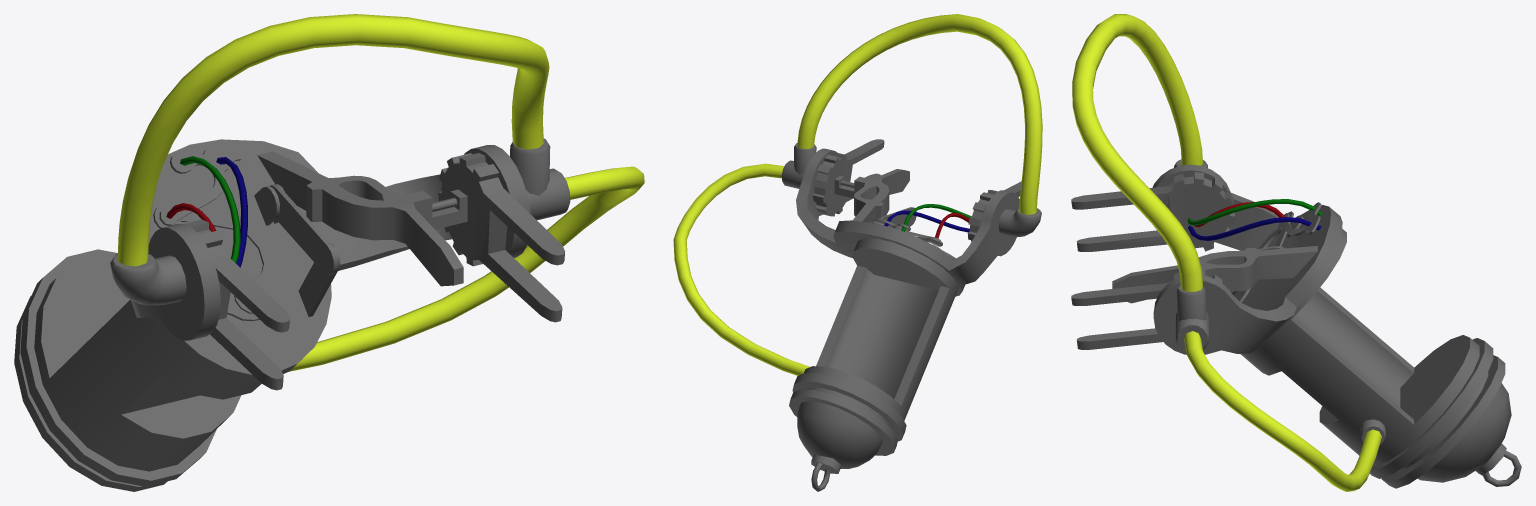
Rendered from Controller_Base.fbx.
3 views of the same model, side by side, from view 1: azimuth 30°, elevation 25°; view 2: azimuth 150°, elevation 25°; view 3: azimuth 270°, elevation 25° (orthographic). The views are drawn at different scales.
Parts seen in each view (by area): view 1: Controller_Front, Controller_Middle, Pipe_Top, Pipe_Side, Cables; view 2: Controller_Middle, Controller_Front, Pipe_Top, Controller_Back, Pipe_Side, Cables; view 3: Controller_Front, Controller_Middle, Pipe_Top, Pipe_Side, Controller_Back, Cables.
Part boxes in pixels (x1,y1,x2,y2): Controller_Front: (110,138,570,390); Controller_Middle: (14,249,261,491); Pipe_Top: (118,14,549,266); Pipe_Side: (289,166,644,371); Cables: (166,156,247,267); Controller_Middle: (789,238,958,455); Controller_Front: (781,139,1041,296); Pipe_Top: (797,14,1042,214); Controller_Back: (797,401,882,491); Pipe_Side: (673,163,809,375); Cables: (884,204,971,238); Controller_Front: (1071,159,1385,445); Controller_Middle: (1240,228,1505,488); Pipe_Top: (1072,14,1202,291); Pipe_Side: (1184,331,1381,491); Controller_Back: (1417,383,1521,486); Cables: (1187,199,1322,240).
Size of the model in its own units: 11.56 by 12.1 by 10.9.
